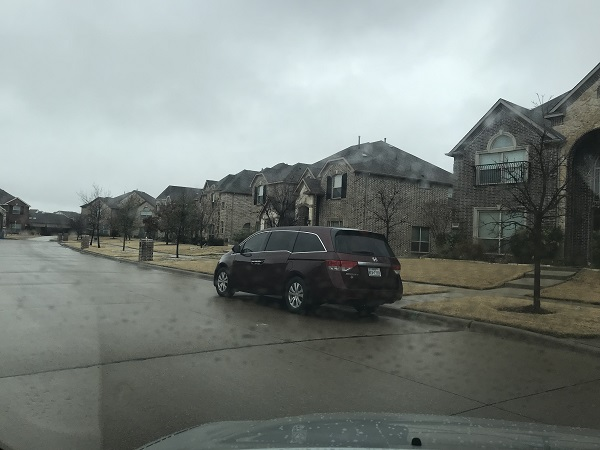car: (212, 225, 405, 316)
